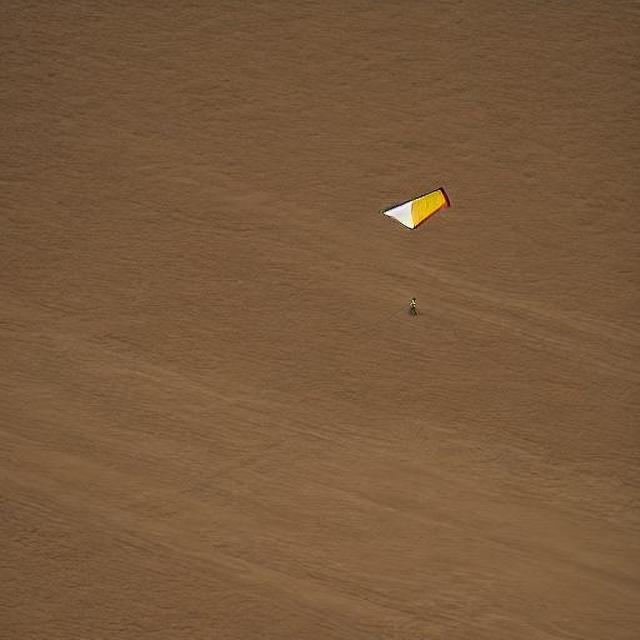floating object: (380, 183, 453, 230)
